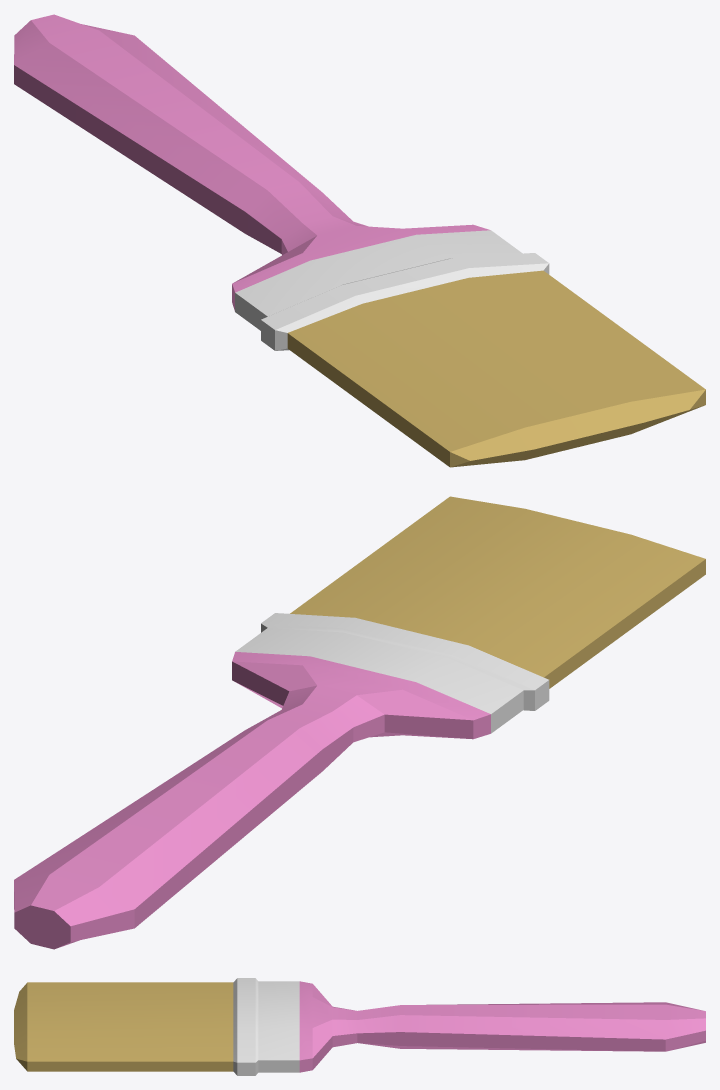
The model's file is Brush1.fbx.
3 renders of one model, top to bottom at view 1: azimuth 30°, elevation 25°; view 2: azimuth 150°, elevation 25°; view 3: azimuth 270°, elevation 25°, orthographic. The views are drawn at different scales.
Visible parts, largest first — view 1: Cylinder.001; view 2: Cylinder.001; view 3: Cylinder.001.
Boxes of the visible parts, x1,y1,x2,y2 form: Cylinder.001: [14, 14, 705, 467]; Cylinder.001: [14, 496, 705, 949]; Cylinder.001: [14, 978, 705, 1075].
Bounding box in the file's own units: 8.78 × 1.63 × 30.28.
